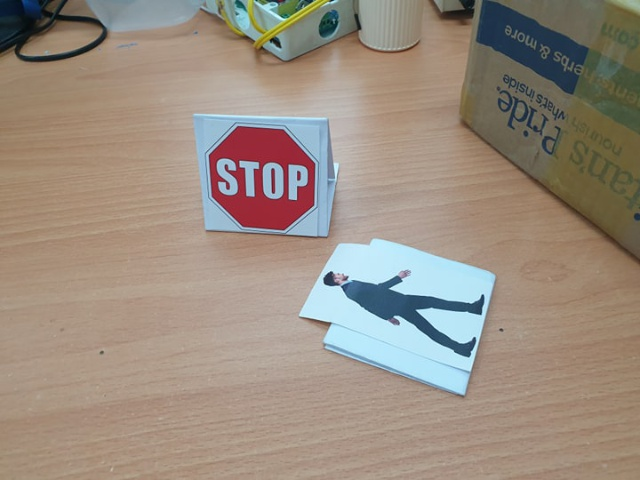Person: (322, 266, 488, 360)
Stop: (202, 123, 320, 233)
